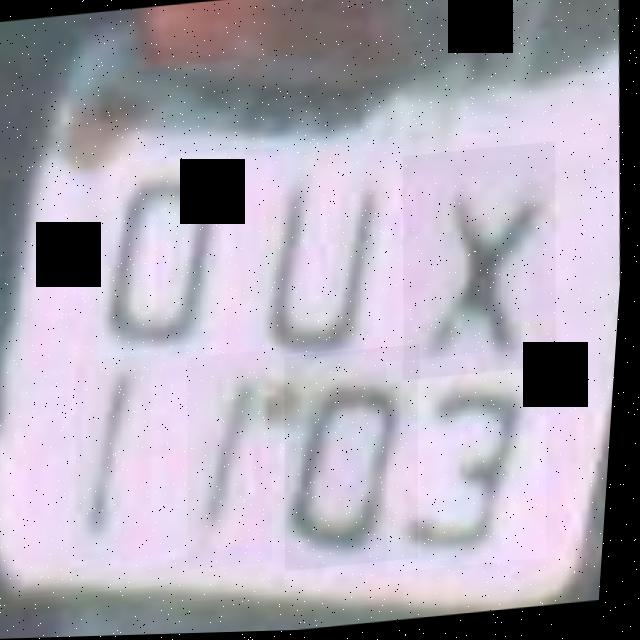0: (278, 346, 439, 573)
1: (180, 351, 291, 571), (70, 355, 169, 549)
3: (381, 349, 567, 576)
O: (89, 151, 243, 375)
U: (218, 147, 432, 379)
X: (393, 144, 573, 383)
